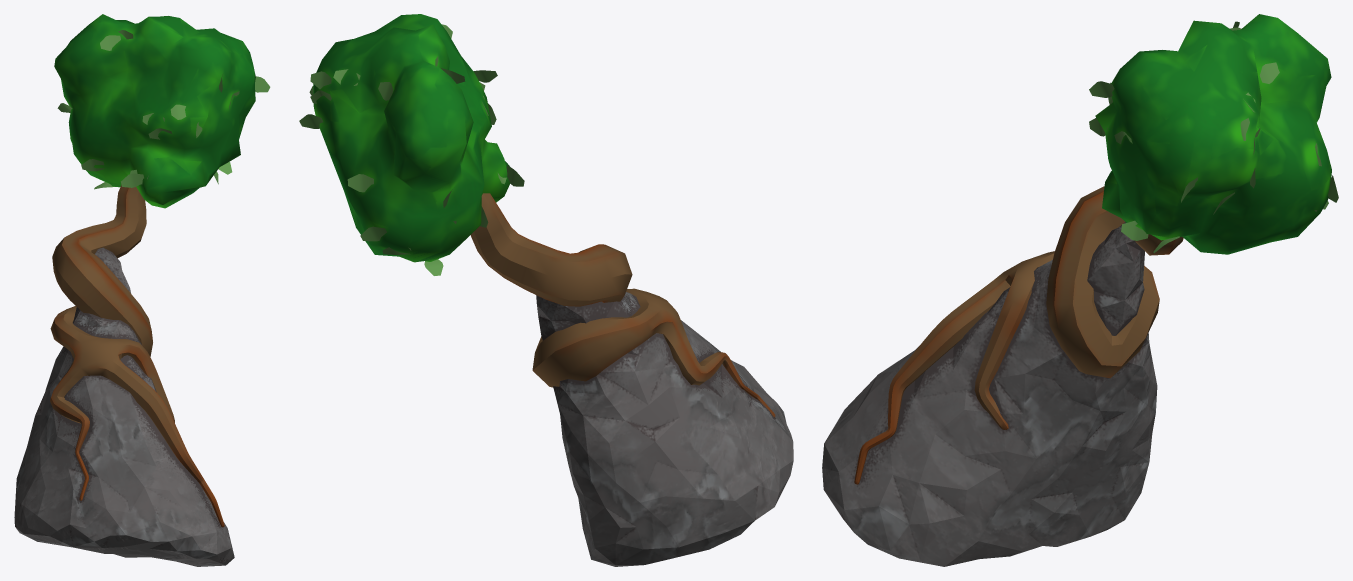
Rendered from arbre_rocher1.fbx.
3 renders of one model, left to right at view 1: azimuth 30°, elevation 25°; view 2: azimuth 150°, elevation 25°; view 3: azimuth 270°, elevation 25°, orthographic. The views are drawn at different scales.
Parts seen in each view (by area): view 1: Cube.004, Mball.060, Plane.013; view 2: Cube.004, Mball.060, Plane.013; view 3: Cube.004, Mball.060, Plane.013.
Part boxes in pixels (<box>): Cube.004: <box>14,247,234,566</box>; Mball.060: <box>54,14,255,208</box>; Plane.013: <box>50,185,224,527</box>; Cube.004: <box>536,292,793,566</box>; Mball.060: <box>313,14,510,262</box>; Plane.013: <box>470,193,775,417</box>; Cube.004: <box>822,222,1157,566</box>; Mball.060: <box>1095,14,1331,254</box>; Plane.013: <box>854,186,1183,484</box>.
Size of the model in its own units: 2722 by 3706 by 2985.
Materials: 4 (3 with a texture image).
